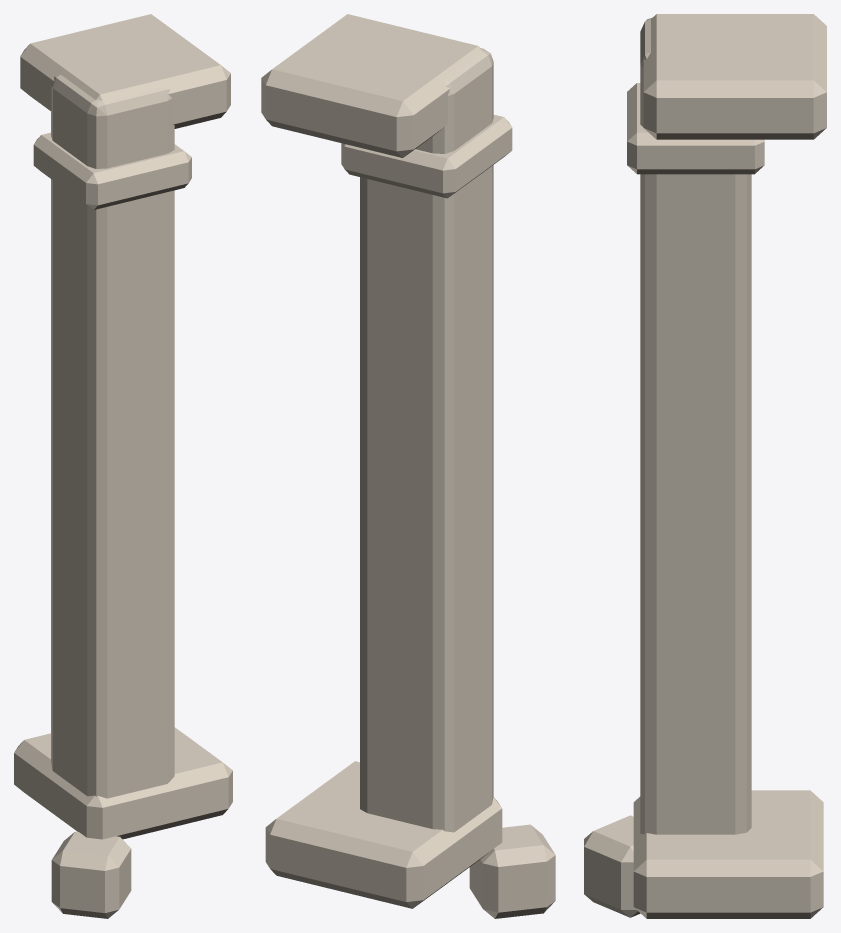
The model's file is SM_VK_Corner_PlasterUp.fbx.
The picture shows the model from 3 angles, left to right: view 1: azimuth 30°, elevation 25°; view 2: azimuth 150°, elevation 25°; view 3: azimuth 270°, elevation 25°; orthographic projection. The views are drawn at different scales.
Parts seen in each view (by area): view 1: SM_VK_Corner_PlasterUp.001; view 2: SM_VK_Corner_PlasterUp.001; view 3: SM_VK_Corner_PlasterUp.001.
Boxes of the visible parts, x1,y1,x2,y2 form: SM_VK_Corner_PlasterUp.001: (14,14,232,918); SM_VK_Corner_PlasterUp.001: (261,14,555,918); SM_VK_Corner_PlasterUp.001: (584,14,826,918).
Bounding box in the file's own units: 0.7414 × 3.03 × 0.7414.
